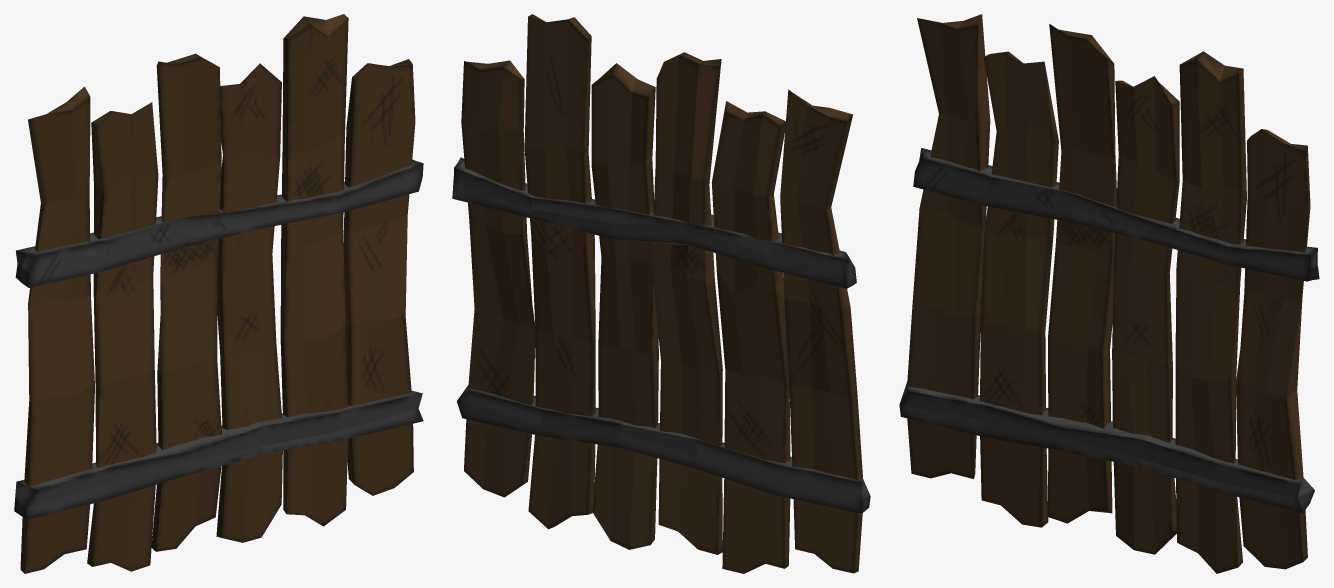
The model's file is AlleyFence_02.fbx.
3 views of the same model, side by side, from view 1: azimuth 30°, elevation 25°; view 2: azimuth 150°, elevation 25°; view 3: azimuth 330°, elevation 25° (orthographic).
Parts seen in each view (by area): view 1: AlleyFence_02; view 2: AlleyFence_02; view 3: AlleyFence_02.
Part boxes in pixels (left/top/right/bottom): AlleyFence_02: left=14, top=14, right=423, bottom=573; AlleyFence_02: left=452, top=14, right=870, bottom=573; AlleyFence_02: left=899, top=14, right=1319, bottom=573.
Size of the model in its own units: 123 by 148 by 10.03.
